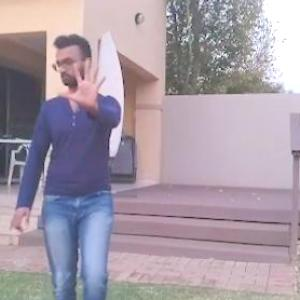follow_hand: (59, 55, 110, 110)
